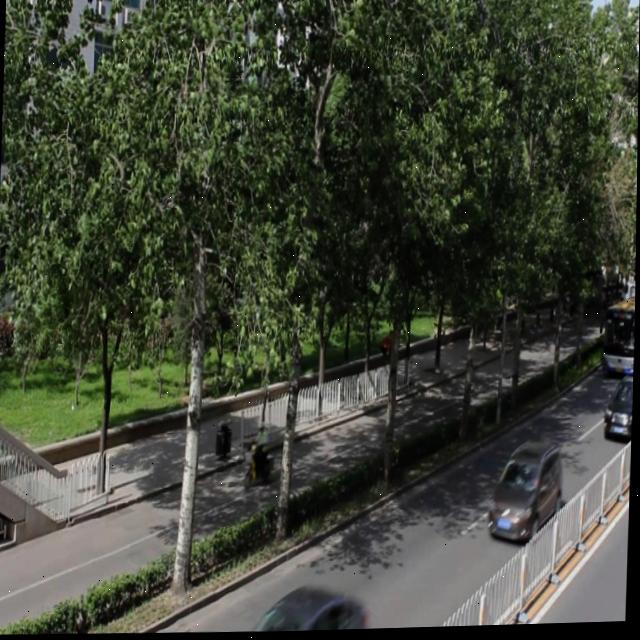car: (488, 437, 563, 546), (238, 579, 369, 634), (601, 374, 634, 447)
